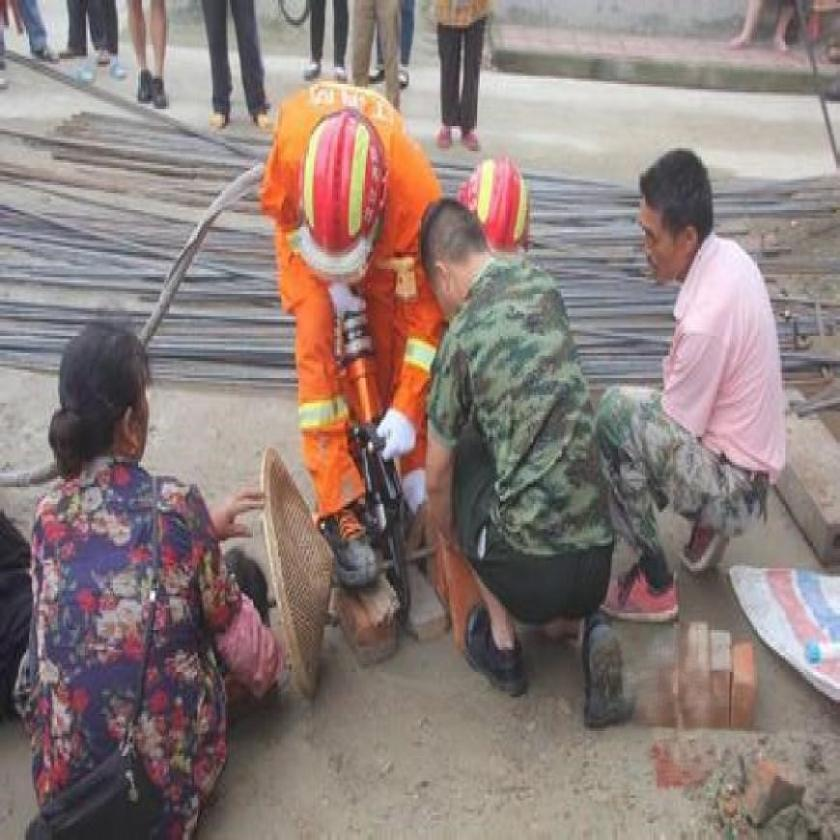Sin_casco: (54, 316, 159, 502), (631, 150, 720, 290), (417, 194, 494, 342)
